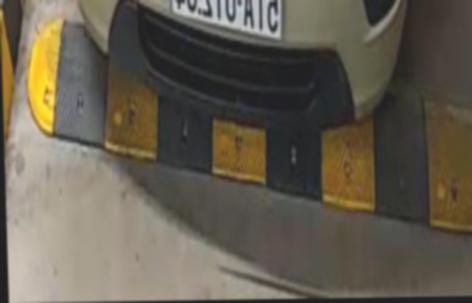License_Plate: (169, 0, 286, 44)
